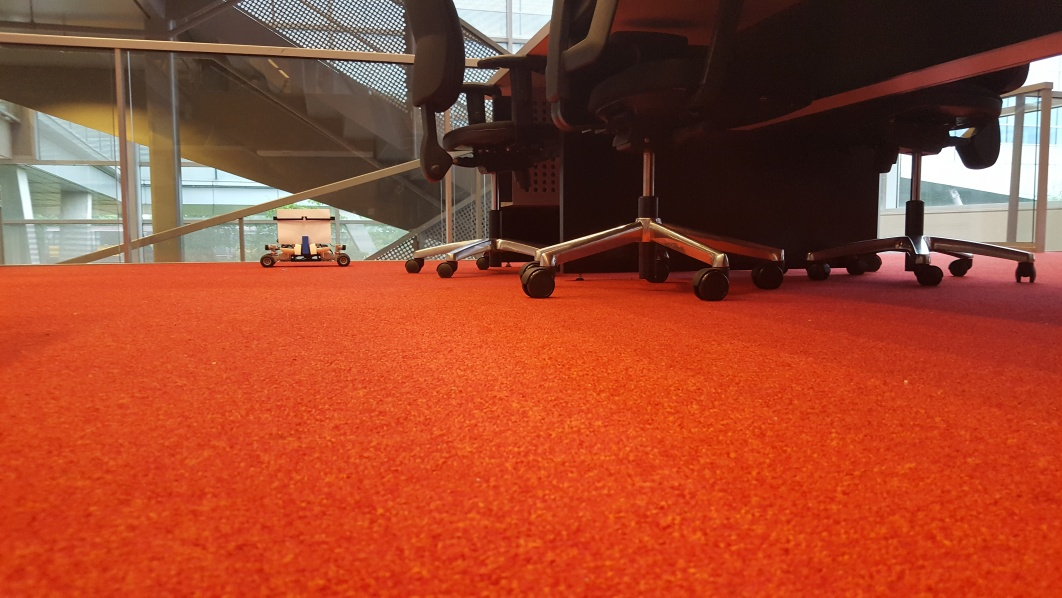car: (259, 207, 348, 271)
